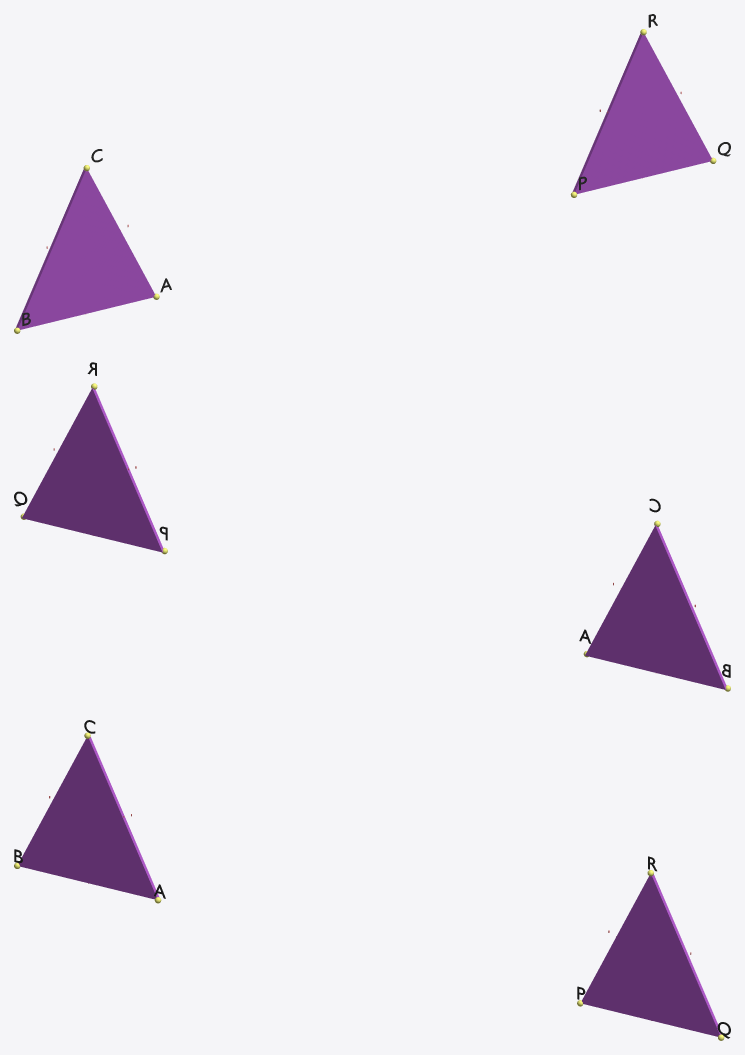
Rendered from sss_congruent_triangles_use_this_one.glb.
3 renders of one model, top to bottom at view 1: azimuth 30°, elevation 25°; view 2: azimuth 150°, elevation 25°; view 3: azimuth 330°, elevation 25°, orthographic.
Parts seen in each view (by area): view 1: Triangle_ABC, Triangle_PQR; view 2: Triangle_ABC, Triangle_PQR; view 3: Triangle_PQR, Triangle_ABC.
Boxes of the visible parts, <box> form: Triangle_ABC: <box>16,169,154,329</box>; Triangle_PQR: <box>572,33,711,193</box>; Triangle_ABC: <box>585,525,726,689</box>; Triangle_PQR: <box>22,388,162,552</box>; Triangle_PQR: <box>582,874,721,1036</box>; Triangle_ABC: <box>18,737,158,899</box>.
Bounding box in the file's own units: 10.23 × 2.31 × 0.155.
